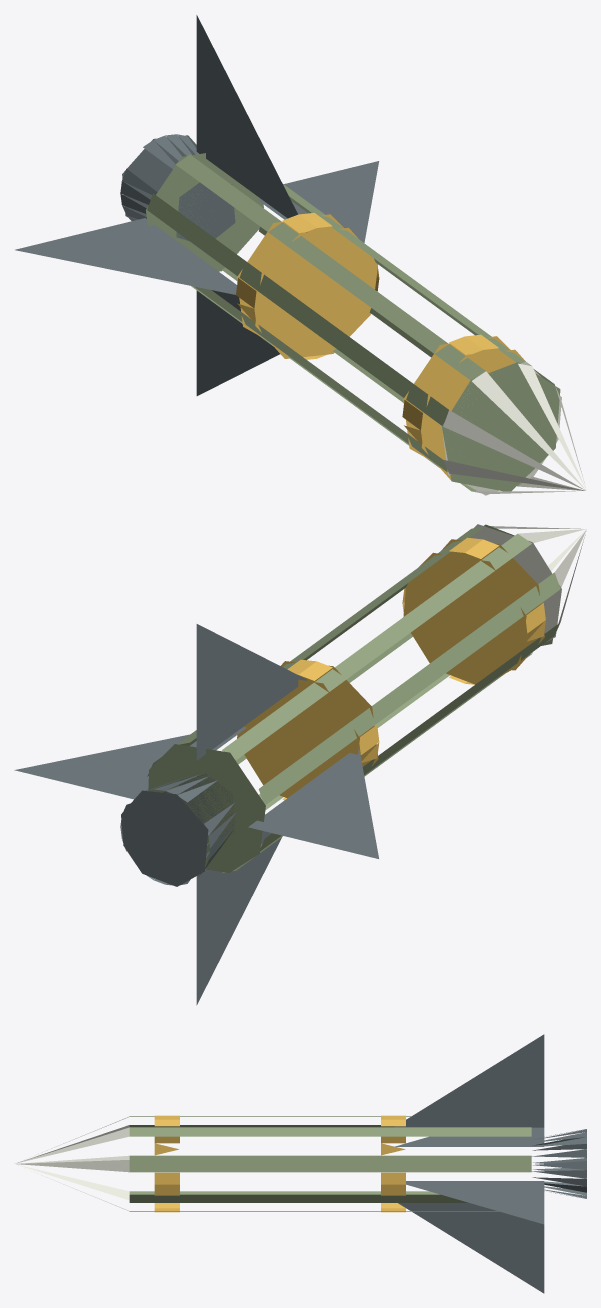
The model's file is rocket.glb.
The picture shows the model from 3 angles, top to bottom: view 1: azimuth 30°, elevation 25°; view 2: azimuth 150°, elevation 25°; view 3: azimuth 270°, elevation 25°; orthographic projection. The views are drawn at different scales.
Visible parts, largest first — view 1: Cylinder, Cylinder.002, Stabilizer.002, Stabilizer.001, Cone, Cone.001, Stabilizer.003, Cylinder.001, Stabilizer; view 2: Cylinder, Cylinder.001, Cone.001, Stabilizer.002, Cylinder.002, Stabilizer.001, Stabilizer.003, Stabilizer, Cone; view 3: Cylinder, Stabilizer.002, Stabilizer.003, Stabilizer, Cone, Cone.001, Stabilizer.001, Cylinder.001, Cylinder.002.
Part boxes in pixels (x1,y1,x2,y2): Cylinder: [146, 153, 560, 491]; Cylinder.002: [236, 213, 379, 359]; Stabilizer.002: [196, 15, 306, 232]; Stabilizer.001: [15, 218, 236, 294]; Cone: [442, 362, 586, 495]; Cone.001: [120, 134, 235, 240]; Stabilizer.003: [196, 290, 279, 395]; Cylinder.001: [402, 334, 525, 480]; Stabilizer: [257, 161, 379, 242]; Cylinder: [147, 524, 560, 873]; Cylinder.001: [402, 537, 545, 684]; Cone.001: [120, 774, 236, 886]; Stabilizer.002: [196, 624, 307, 760]; Cylinder.002: [237, 659, 379, 800]; Stabilizer.001: [248, 747, 378, 858]; Stabilizer.003: [196, 831, 281, 1005]; Stabilizer: [14, 727, 246, 799]; Cone: [470, 524, 586, 654]; Cylinder: [129, 1116, 531, 1211]; Stabilizer.002: [394, 1034, 544, 1127]; Stabilizer.003: [398, 1203, 544, 1293]; Stabilizer: [406, 1181, 544, 1224]; Cone: [15, 1116, 129, 1211]; Cone.001: [532, 1129, 586, 1198]; Stabilizer.001: [394, 1127, 544, 1146]; Cylinder.001: [154, 1115, 179, 1212]; Cylinder.002: [381, 1115, 405, 1212].
Size of the model in its own units: 1.14 by 1.14 by 2.28.
